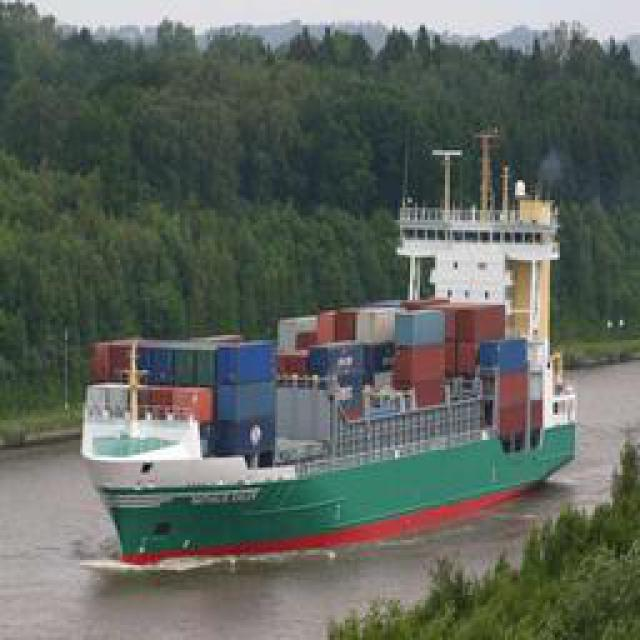Ship: (83, 305, 571, 570)
